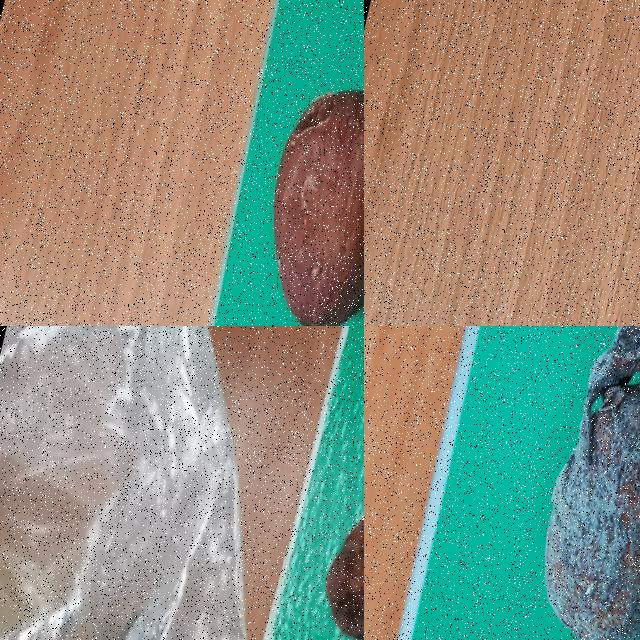Agglomerated_cocoabeans: (465, 326, 639, 639)
Fine_cocoabeans: (201, 0, 363, 325)
Flat_cocoabeans: (252, 415, 363, 639)
